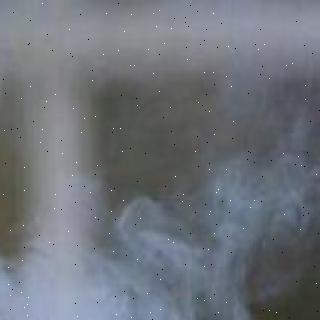smoke: (0, 233, 265, 320)
